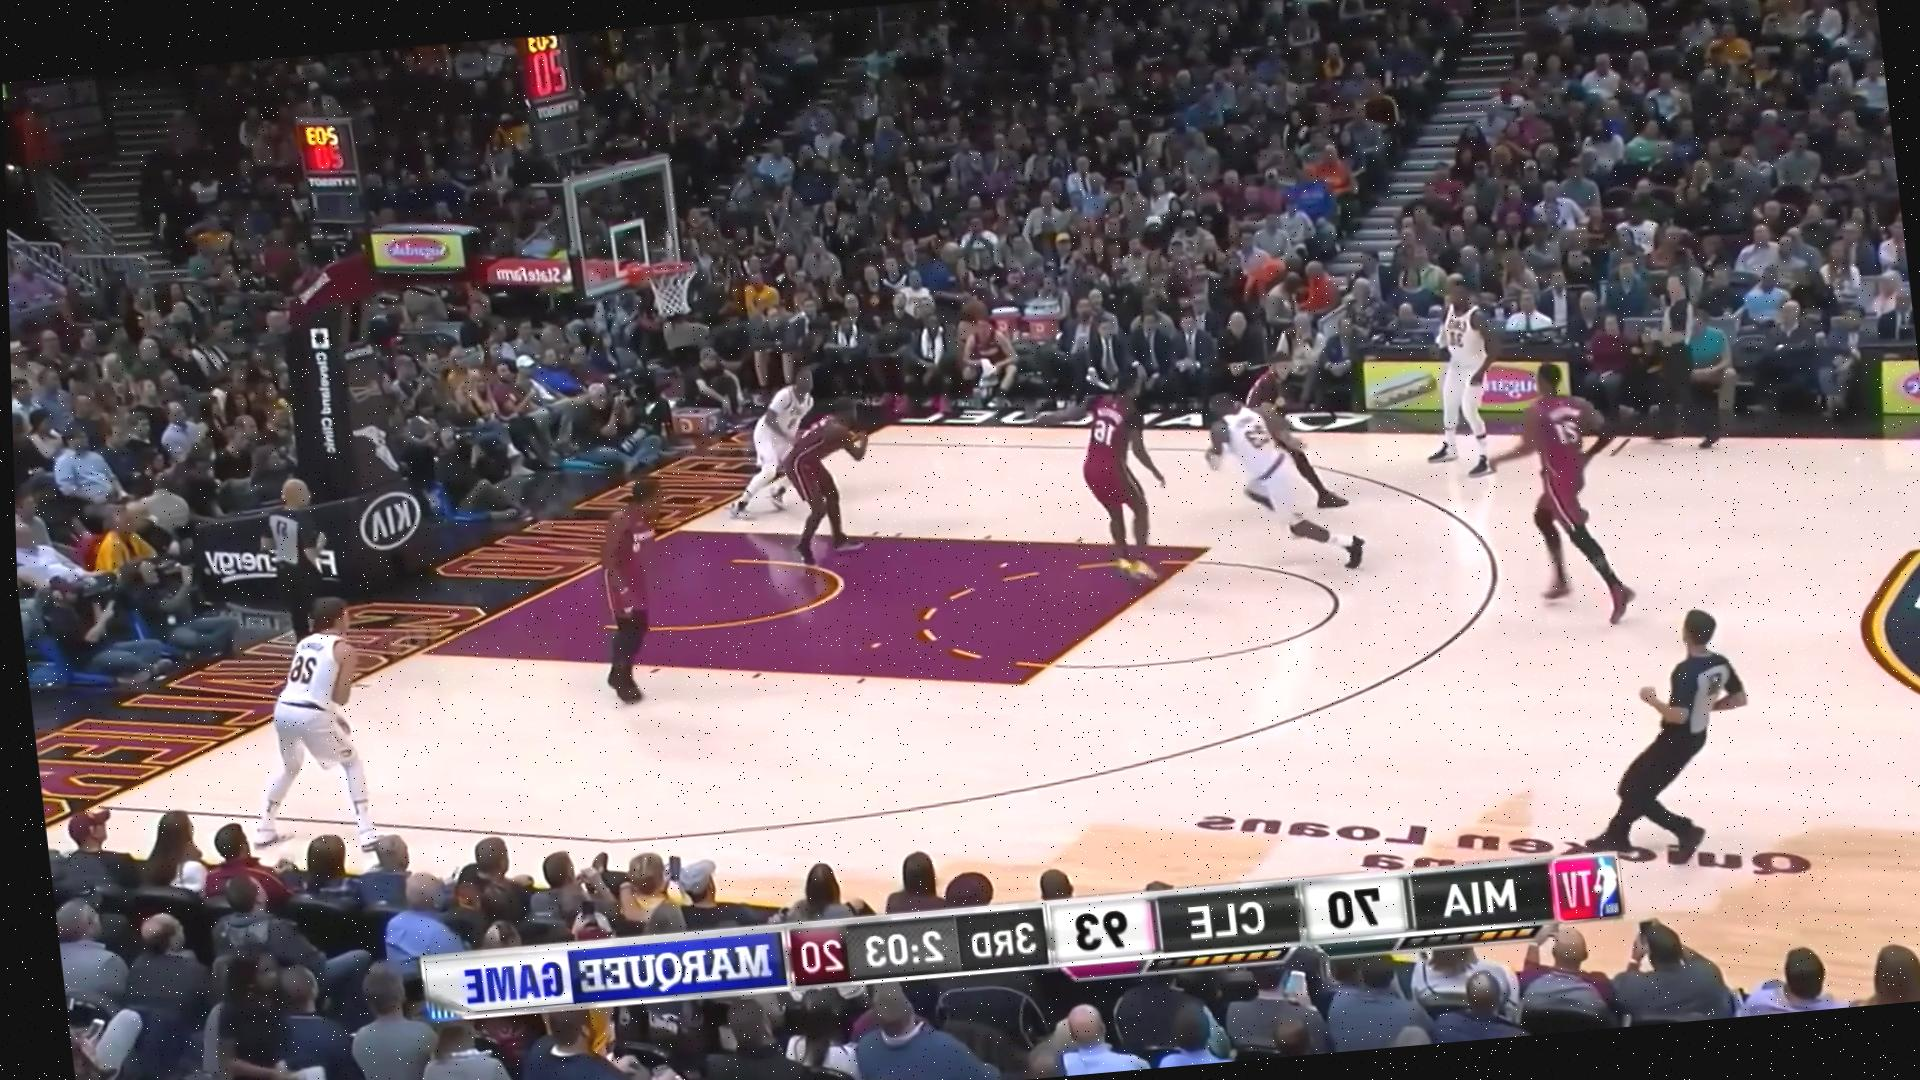no_foul: (1047, 364, 1366, 608)
